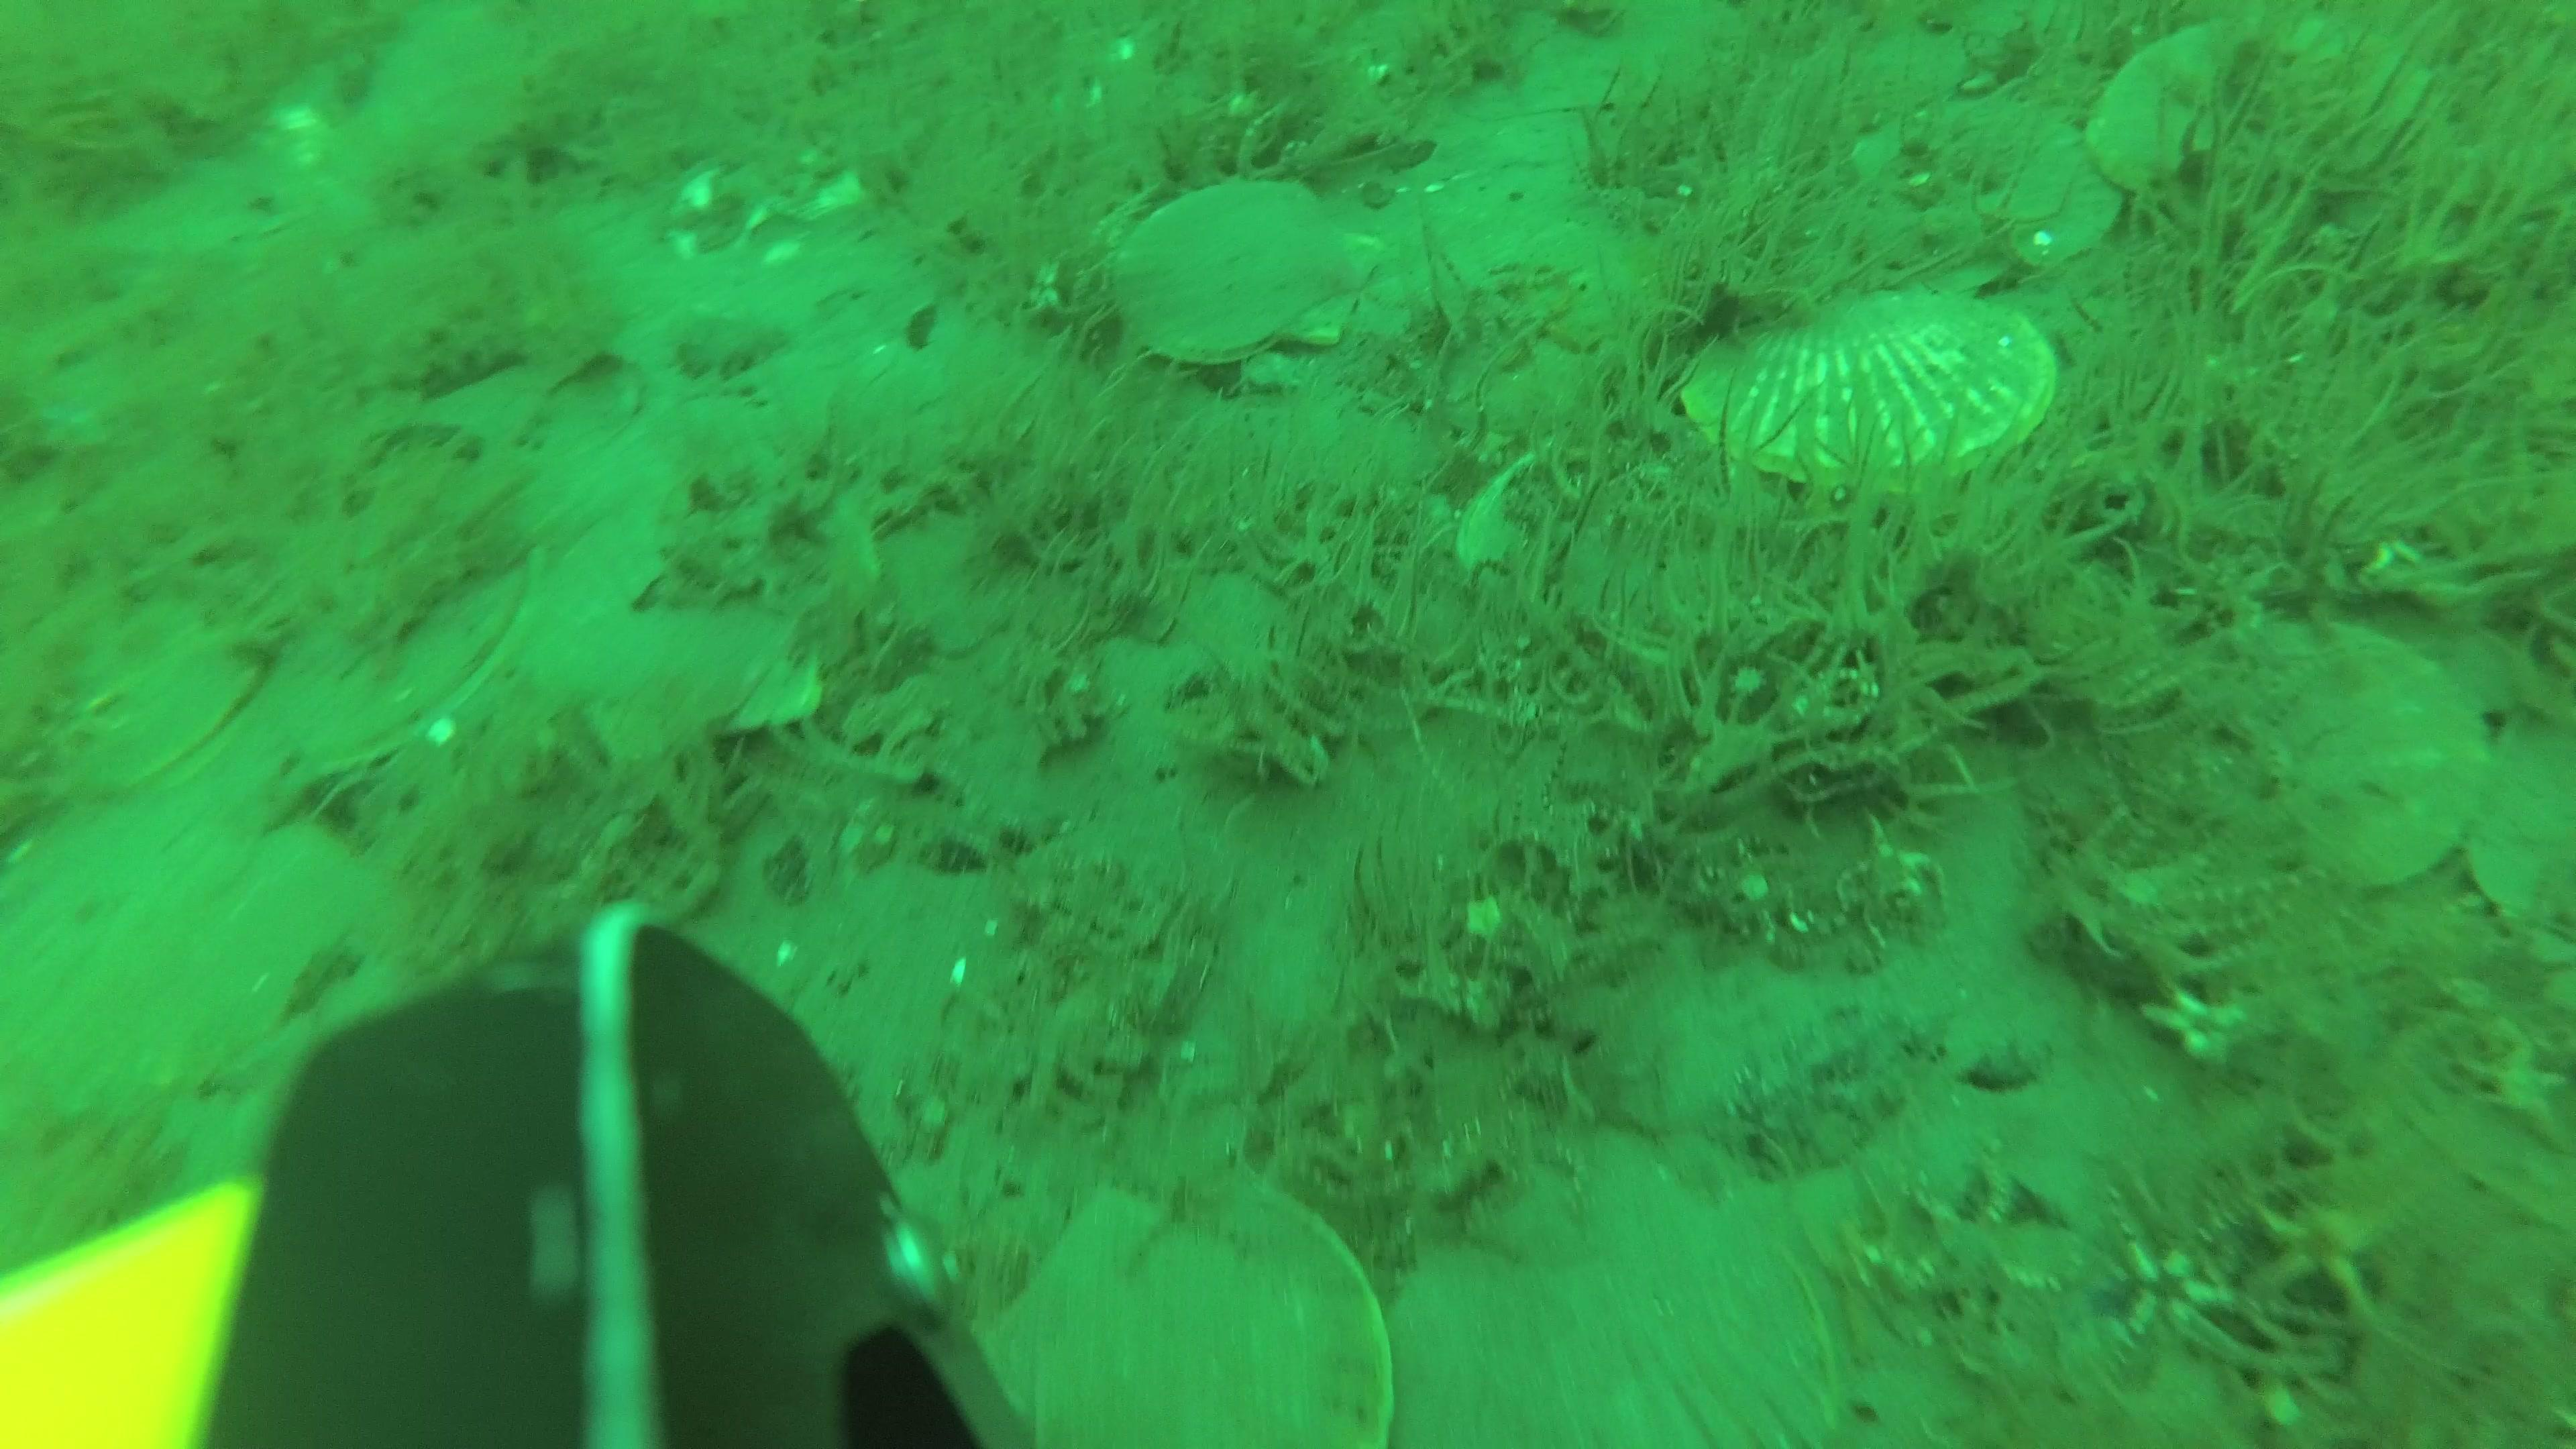scallop: (1008, 1157, 1392, 1449), (1408, 1205, 1821, 1449), (533, 481, 879, 747), (2215, 616, 2495, 892), (1679, 287, 2059, 487), (2089, 16, 2463, 214), (1116, 180, 1385, 373)
